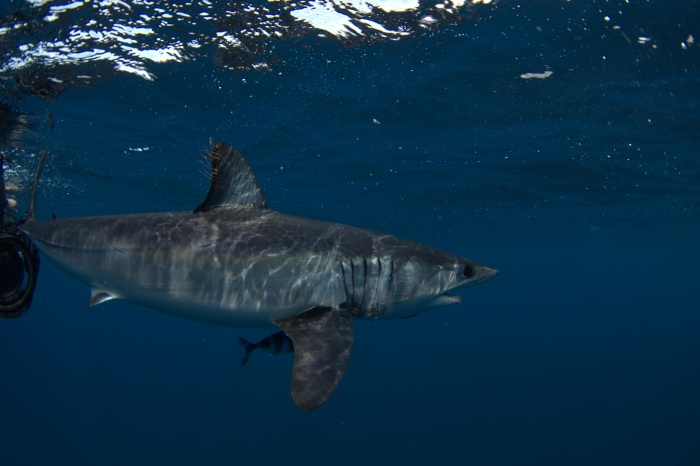Mako: (16, 135, 510, 423)
